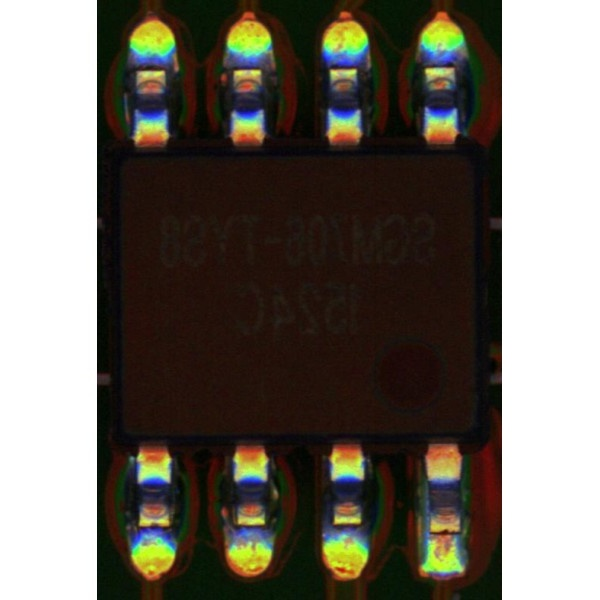Bad_podu: (431, 524, 457, 549)
